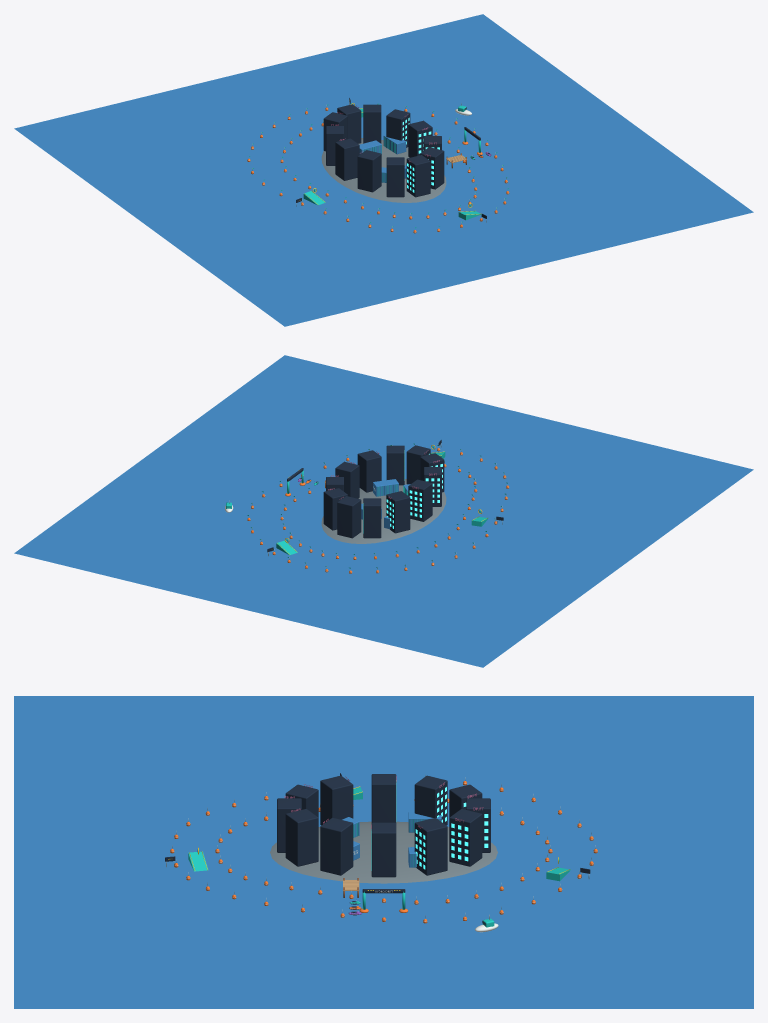
Rendered from Track_Neon_Harbor.glb.
The picture shows the model from 3 angles, top to bottom: view 1: azimuth 30°, elevation 25°; view 2: azimuth 150°, elevation 25°; view 3: azimuth 270°, elevation 25°; orthographic projection. The views are drawn at different scales.
Visible parts, largest first — view 1: Water_preview_surface.001, Central_island.001, Harbor tower.008, Harbor tower.010, Harbor tower.007, Harbor tower.009, Harbor tower.003, Harbor tower.002, Harbor tower.011, Harbor tower.001, Harbor tower.004; view 2: Water_preview_surface.001, Central_island.001, Harbor tower.004, Harbor tower.006, Harbor tower.007, Harbor tower.012, Harbor tower.005, Harbor tower.011, Harbor tower.003, Harbor tower.001, Harbor tower.010; view 3: Water_preview_surface.001, Central_island.001, Harbor tower.012, Harbor tower.011, Harbor tower.002, Harbor tower.003, Harbor tower.001, Harbor tower.008, Harbor tower.007, Harbor tower.006, Harbor tower.010, Harbor tower.004 (+2 smaller).
Boxes of the visible parts, left/top/right/bottom form: Water_preview_surface.001: left=14, top=14, right=753, bottom=326; Central_island.001: left=321, top=138, right=446, bottom=202; Harbor tower.008: left=357, top=150, right=381, bottom=192; Harbor tower.010: left=406, top=155, right=430, bottom=197; Harbor tower.007: left=335, top=138, right=359, bottom=180; Harbor tower.009: left=386, top=157, right=404, bottom=197; Harbor tower.003: left=363, top=104, right=381, bottom=143; Harbor tower.002: left=386, top=109, right=410, bottom=147; Harbor tower.011: left=420, top=147, right=444, bottom=189; Harbor tower.001: left=408, top=120, right=432, bottom=157; Harbor tower.004: left=337, top=104, right=361, bottom=143; Water_preview_surface.001: left=14, top=355, right=753, bottom=667; Central_island.001: left=321, top=479, right=446, bottom=543; Harbor tower.004: left=337, top=496, right=361, bottom=538; Harbor tower.006: left=386, top=491, right=410, bottom=533; Harbor tower.007: left=408, top=479, right=432, bottom=521; Harbor tower.012: left=357, top=450, right=381, bottom=492; Harbor tower.005: left=363, top=498, right=381, bottom=538; Harbor tower.011: left=386, top=445, right=404, bottom=485; Harbor tower.003: left=323, top=488, right=347, bottom=530; Harbor tower.001: left=335, top=461, right=359, bottom=498; Harbor tower.010: left=406, top=445, right=430, bottom=484; Water_preview_surface.001: left=14, top=696, right=753, bottom=1008; Central_island.001: left=270, top=821, right=497, bottom=883; Harbor tower.012: left=320, top=817, right=353, bottom=875; Harbor tower.011: left=285, top=809, right=318, bottom=866; Harbor tower.002: left=414, top=817, right=447, bottom=875; Harbor tower.003: left=449, top=809, right=482, bottom=866; Harbor tower.001: left=371, top=822, right=396, bottom=877; Harbor tower.008: left=320, top=775, right=353, bottom=825; Harbor tower.007: left=371, top=774, right=396, bottom=822; Harbor tower.006: left=414, top=775, right=447, bottom=825; Harbor tower.010: left=277, top=798, right=301, bottom=852; Harbor tower.004: left=466, top=798, right=490, bottom=852.
Bounding box in the file's own units: 180 × 18.08 × 180.
